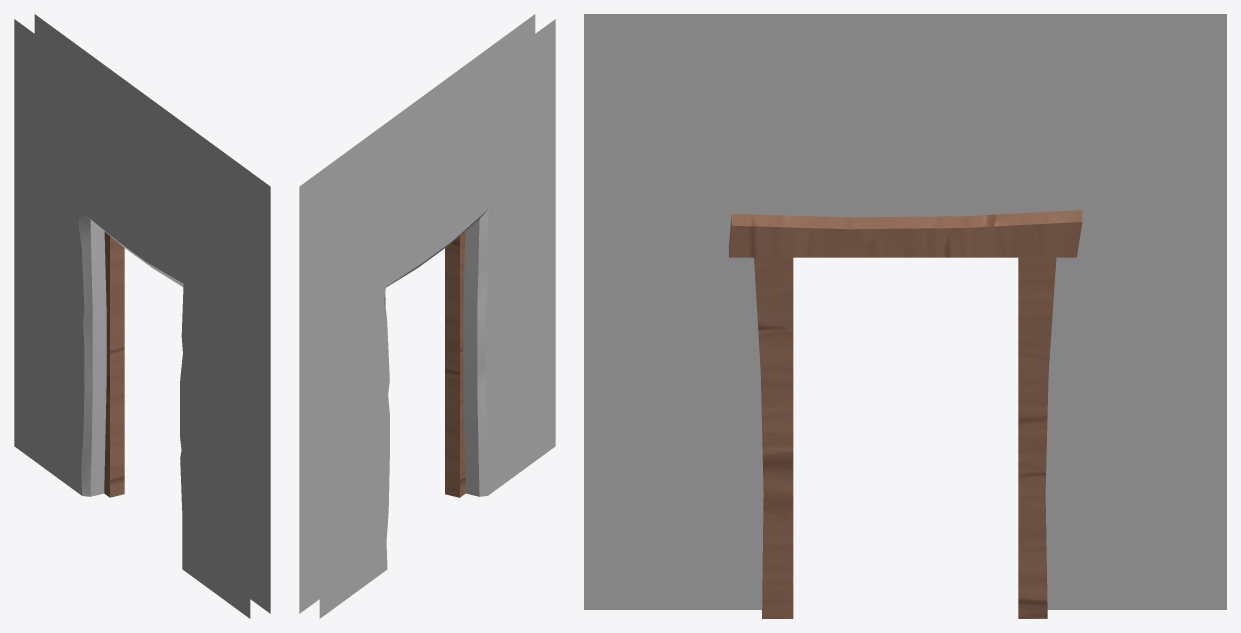
The model's file is SM_wall_05.fbx.
3 renders of one model, left to right at view 1: azimuth 30°, elevation 25°; view 2: azimuth 150°, elevation 25°; view 3: azimuth 270°, elevation 25°, orthographic. The views are drawn at different scales.
Visible parts, largest first — view 1: SM_wall_05_LOD0; view 2: SM_wall_05_LOD0; view 3: SM_wall_05_LOD0.
Boxes of the visible parts, x1,y1,x2,y2 form: SM_wall_05_LOD0: (14, 14, 270, 618); SM_wall_05_LOD0: (299, 14, 555, 618); SM_wall_05_LOD0: (584, 14, 1226, 618).
Size of the model in its own units: 37.36 by 400 by 400.
